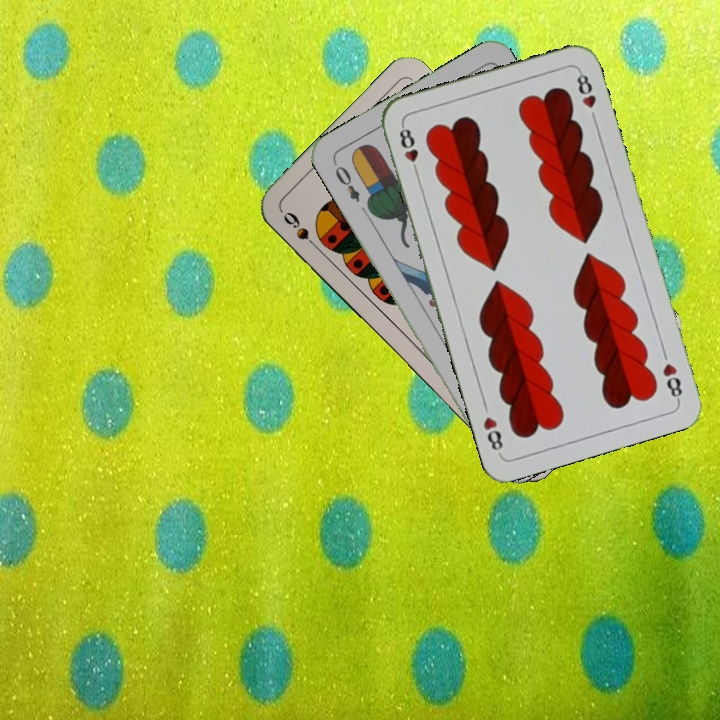EO: (329, 158, 363, 205)
H8: (395, 121, 422, 179), (658, 359, 685, 403)
S9: (279, 207, 324, 255)
